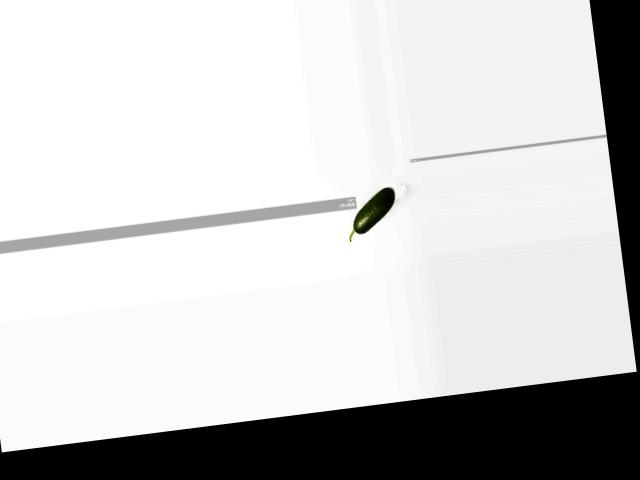cucumber: (342, 186, 398, 241)
